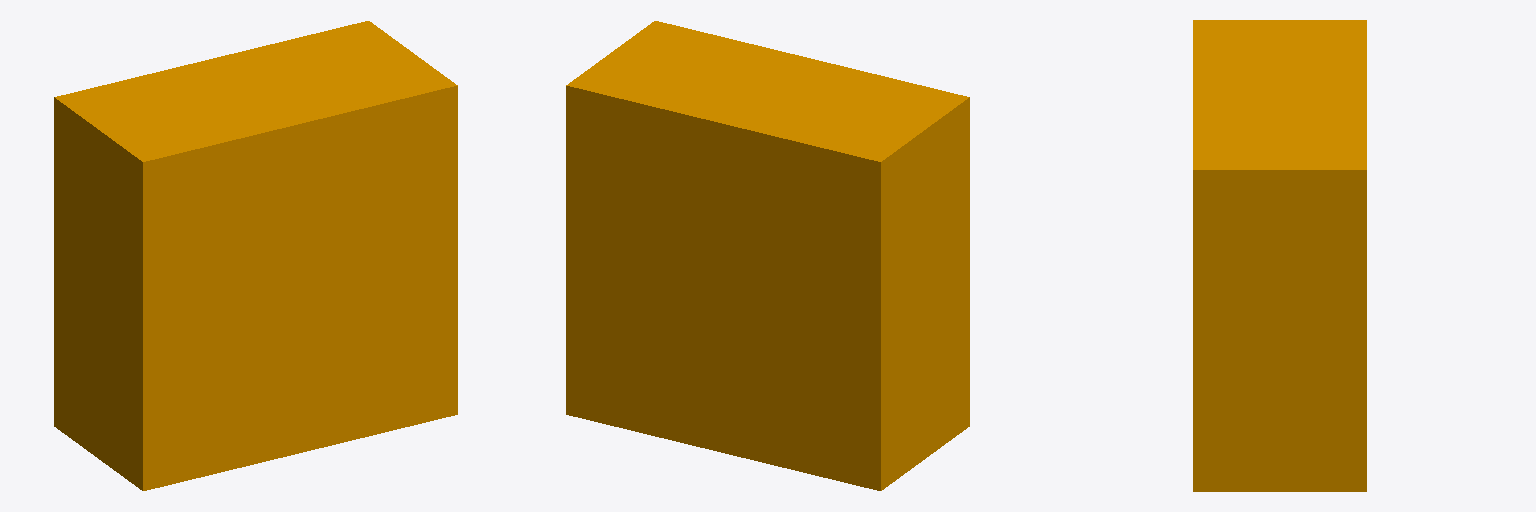
The robot description file, URDF, robot "cucumber_seed":
<?xml version="1.0"?>
<robot name="cucumber_seed">
  <link name="body">
    <inertial>
        <origin rpy="0 0 0" xyz="0 0 0"/>
        <mass value="0.01"/>
        <inertia ixx="4.4e-5" ixy="0" ixz="0" iyy="0" iyz="0" izz="4.4e-5"/>
    </inertial>
    <visual>
      <geometry>
        <mesh filename="cucumberSeed.obj"/>
      </geometry>
    </visual>
    <collision>
      <geometry>
        <mesh filename="cucumberSeed.obj"/>
      </geometry>
      <surface>
           <bounce restitution_coefficient = "0.1"/>
      </surface>
    </collision>
  </link>
</robot>

--- What the picture shows (computed from the rendered views, not written in the file) ---
Views: 3 orthographic renders of the robot side by side, from view 1: azimuth 30°, elevation 25°; view 2: azimuth 150°, elevation 25°; view 3: azimuth 270°, elevation 25°.
Model cucumber_seed with 1 links and 0 joints (none), rooted at body, posed every joint at zero.
Links seen in each view (by area): view 1: body; view 2: body; view 3: body.
Boxes of the visible links, bbox=[...] form: body: bbox=[54, 21, 457, 490]; body: bbox=[566, 21, 969, 490]; body: bbox=[1193, 20, 1366, 491].
Size in the robot's own frame: 0.015 by 0.0073 by 0.015 metres.
Meshes: 1 distinct files referenced, 1 mesh visuals loaded (1 OBJ).
